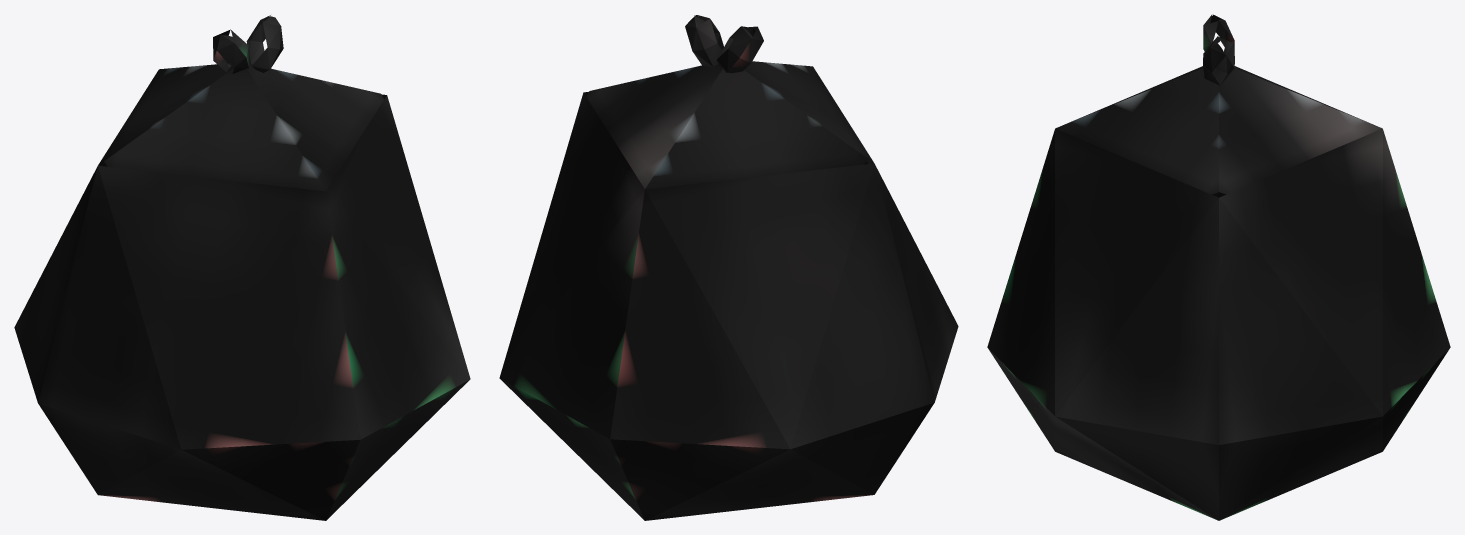
File: Trashbag2.fbx
The picture shows the model from 3 angles, left to right: view 1: azimuth 30°, elevation 25°; view 2: azimuth 150°, elevation 25°; view 3: azimuth 270°, elevation 25°; orthographic projection. The views are drawn at different scales.
Parts seen in each view (by area): view 1: octahedron; view 2: octahedron; view 3: octahedron.
Part boxes in pixels (<box>): octahedron: <box>14,15,470,520</box>; octahedron: <box>499,15,958,520</box>; octahedron: <box>987,14,1450,520</box>.
Size of the model in its own units: 47.5 by 48.41 by 47.5.
Materials: 1 (1 with a texture image).
